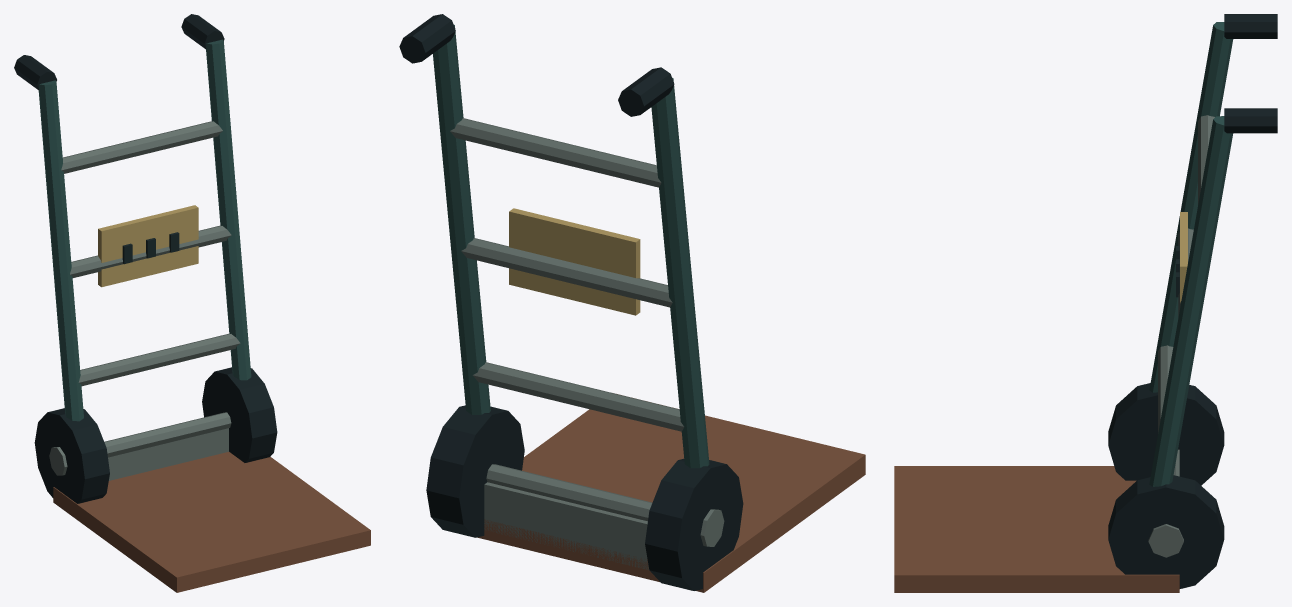
The model's file is lv119-abandoned-hand-truck.glb.
3 views of the same model, side by side, from view 1: azimuth 30°, elevation 25°; view 2: azimuth 150°, elevation 25°; view 3: azimuth 270°, elevation 25° (orthographic). The views are drawn at different scales.
Parts seen in each view (by area): view 1: abandoned-hand-truck; view 2: abandoned-hand-truck; view 3: abandoned-hand-truck.
Part boxes in pixels (<box>): abandoned-hand-truck: <box>14,14,370,592</box>; abandoned-hand-truck: <box>399,14,865,592</box>; abandoned-hand-truck: <box>894,14,1277,592</box>.
Bounding box in the file's own units: 0.592 × 1.18 × 0.86.
